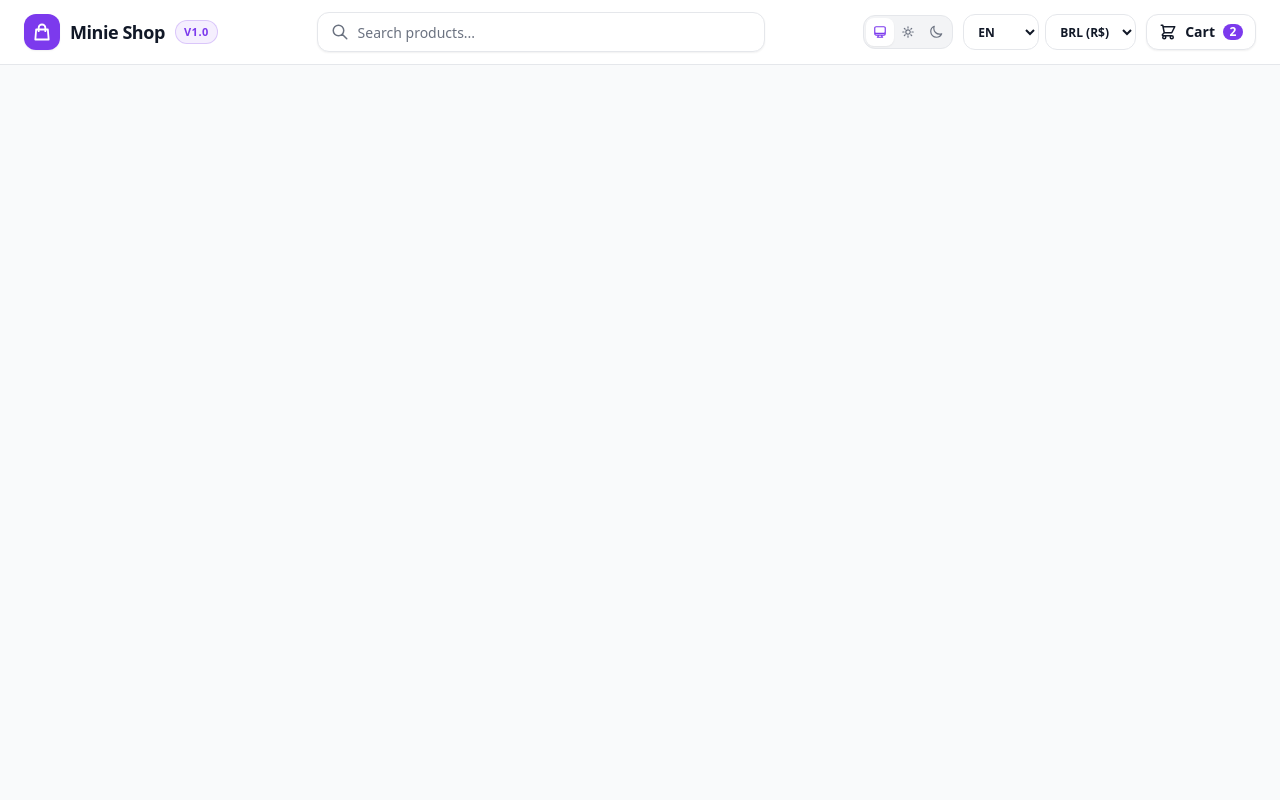
Test: MiniCart progressive multi-currency repricing (Phase 6.1) › keeps Navbar badge instant with 0 quotePricing calls while MiniCart is closed, then reprices progressively on open
Later steps or results of the test are not shown.
Expected: the button with aria-label "Shopping cart with 2 items" is shown, [1146,14,1256,50]
Switching currency while MiniCart is closed must NOT trigger quotePricing
Select "USD ($)" in the dropdown named "Select display currency" at (1091, 32), box [1045,14,1136,50]
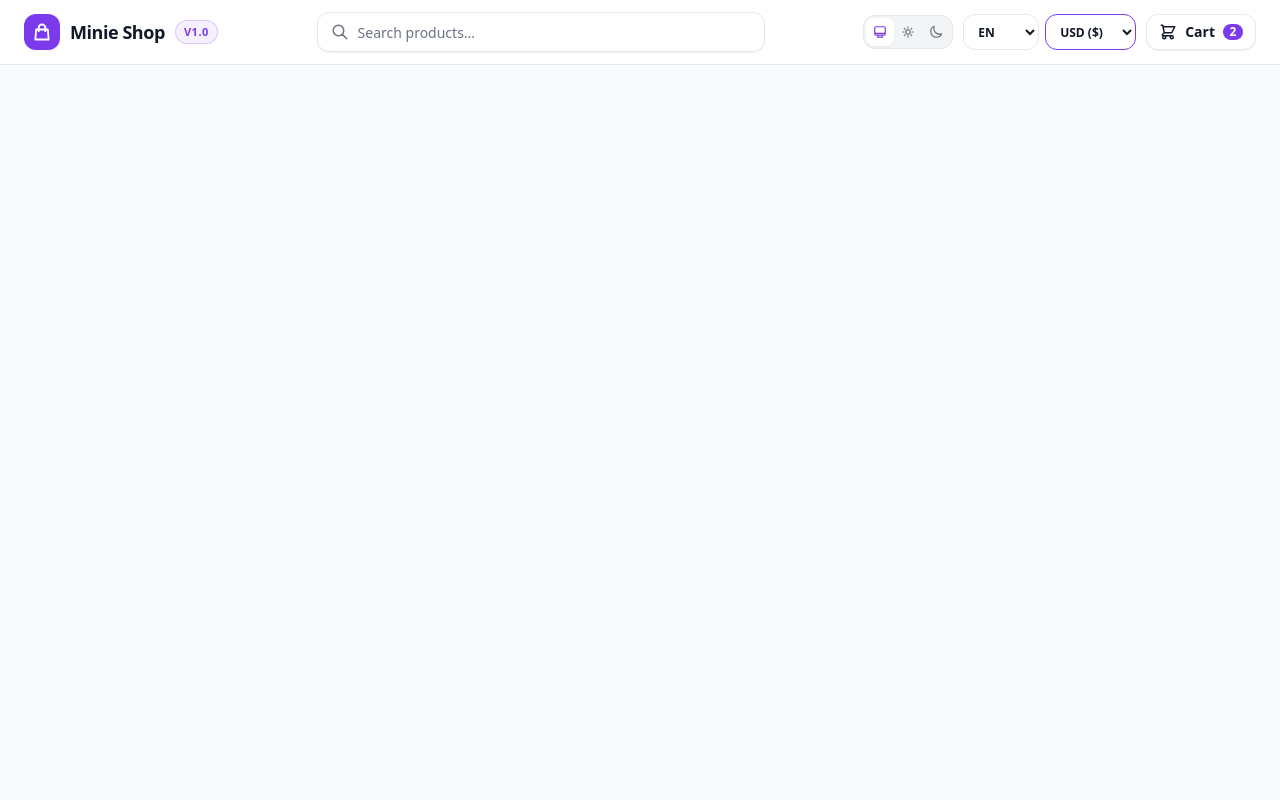
Opening MiniCart triggers lazy quotePricing while keeping item visible with shimmers
Click the button with aria-label "Shopping cart with 2 items".
click(1201, 32)  # box [1146,14,1256,50]
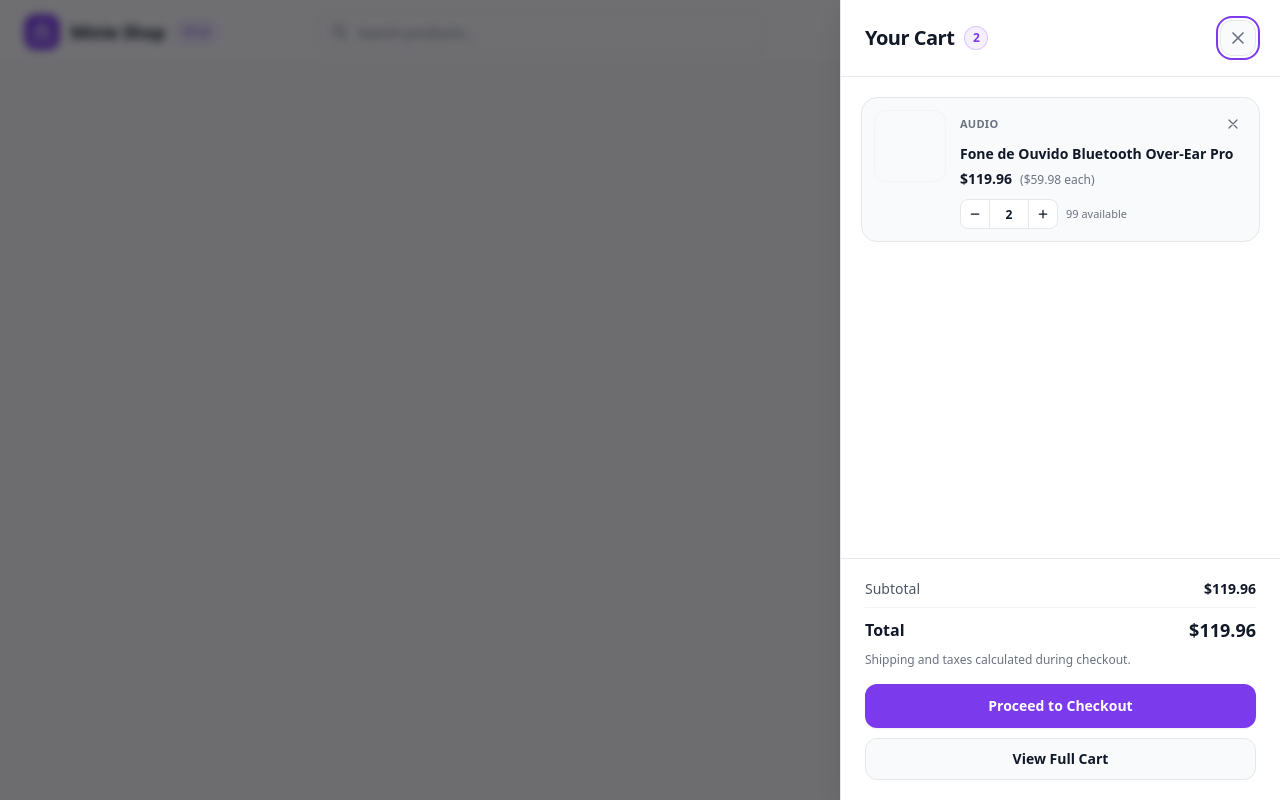
Expected: the link "Fone de Ouvido Bluetooth Over-Ear Pro" is shown, [960,144,1247,163]
Expected: the text named "Updating item price" is shown, [960,169,1012,189]
Expected: the button "Proceed to Checkout" is enabled, [865,684,1256,728]
